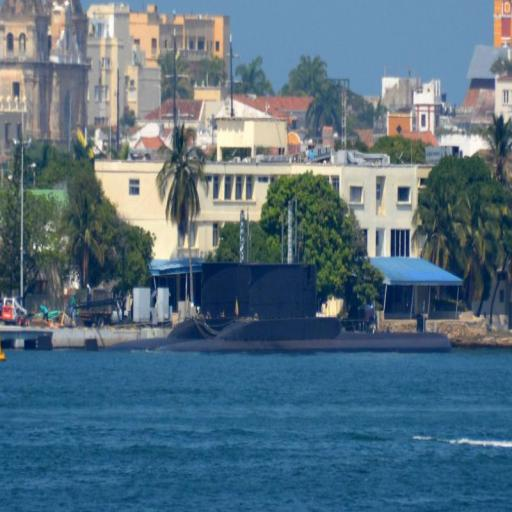submarine: (107, 268, 461, 349)
